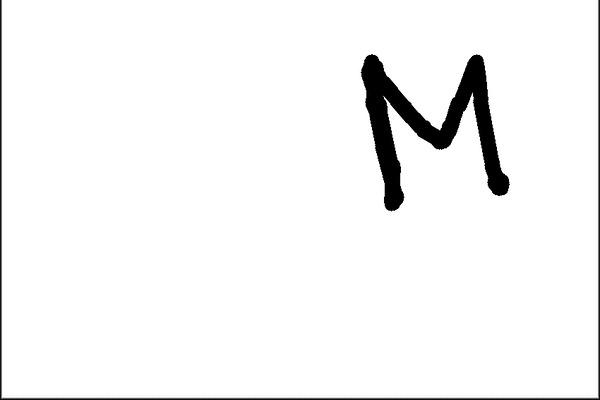M: (359, 51, 514, 211)
